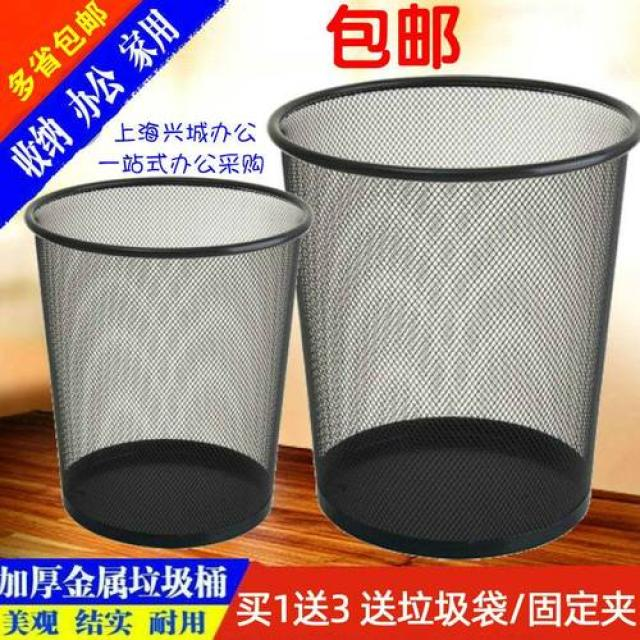dustbin: (269, 71, 640, 562), (22, 175, 314, 550)
